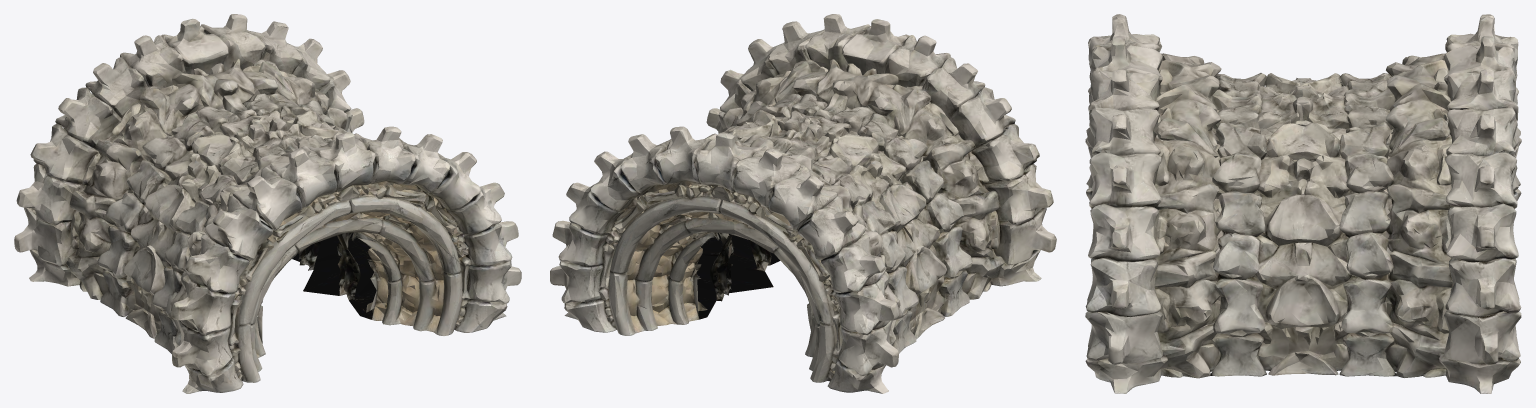
The model's file is sv_boneportal.glb.
3 views of the same model, side by side, from view 1: azimuth 30°, elevation 25°; view 2: azimuth 150°, elevation 25°; view 3: azimuth 270°, elevation 25° (orthographic). The views are drawn at different scales.
Size of the model in its own units: 1.9 by 1.15 by 1.73.
1 material, 1 textured.
